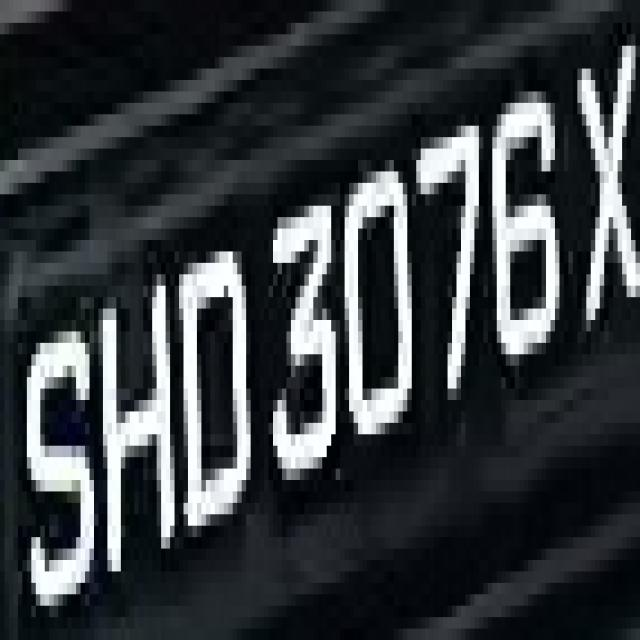0: (331, 137, 421, 457)
3: (260, 160, 340, 503)
6: (470, 57, 568, 389)
7: (398, 114, 492, 434)
D: (166, 206, 260, 548)
H: (90, 240, 179, 583)
S: (13, 297, 94, 629)
X: (573, 23, 635, 366)
